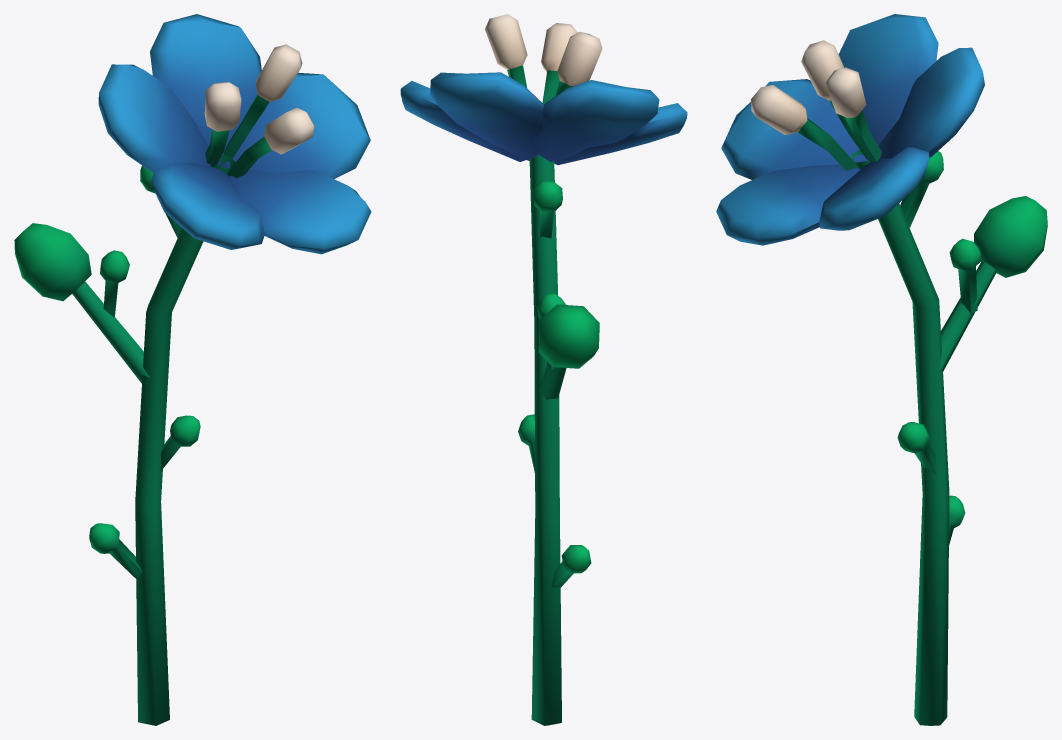
The model's file is flax_flower_B.fbx.
3 renders of one model, left to right at view 1: azimuth 30°, elevation 25°; view 2: azimuth 150°, elevation 25°; view 3: azimuth 270°, elevation 25°, orthographic. The views are drawn at different scales.
Parts seen in each view (by area): view 1: flax_flower_B; view 2: flax_flower_B; view 3: flax_flower_B.
Part boxes in pixels (box(x1,y1,x2,y2)): flax_flower_B: box(14, 14, 371, 725); flax_flower_B: box(400, 14, 687, 725); flax_flower_B: box(716, 14, 1047, 725).
Size of the model in its own units: 0.3681 by 0.8959 by 0.3842.
